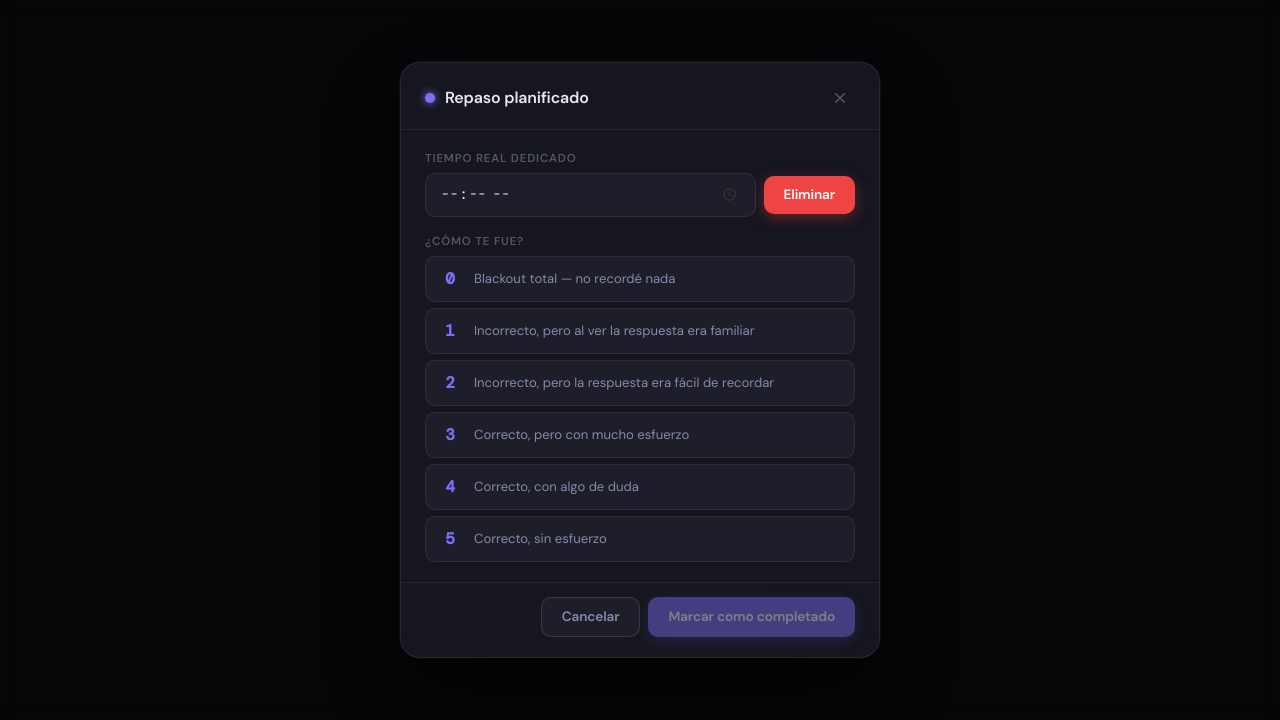
Test: EditReviewPlanEventDialog - estado pending › el botón se habilita con tiempo y valoración
This screenshot has width=1280, height=720.
Type "01:00" into the time field named "Tiempo real dedicado". click: (590, 195)
box: [425,173,756,217]
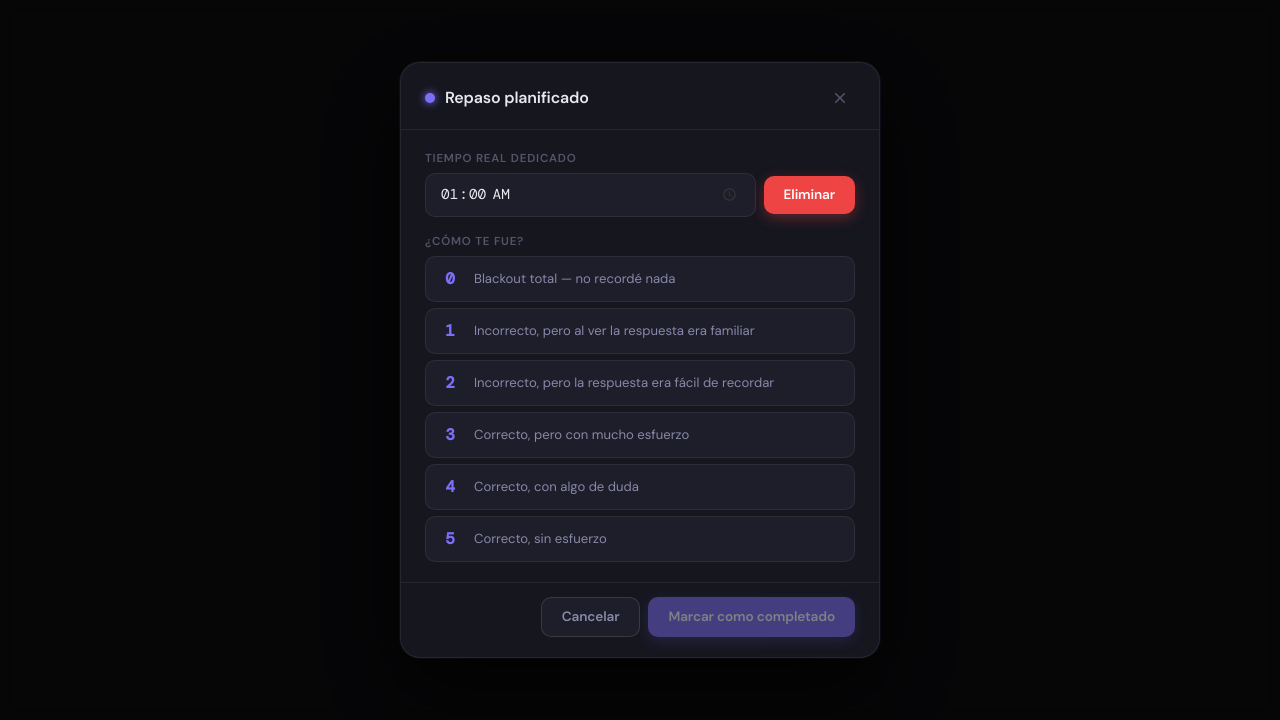
Click the radio button labelled "4 Correcto, con algo de duda". click: (640, 487)
box: [425,464,855,510]
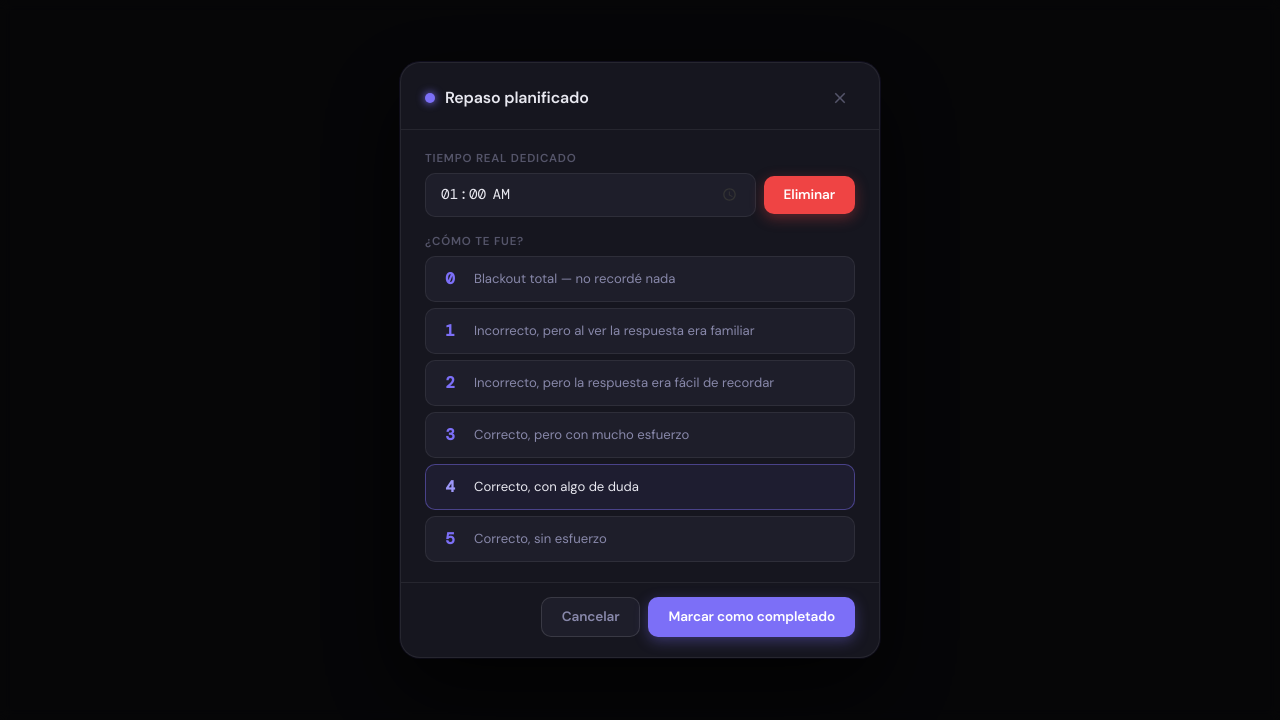
Expected: the button "Marcar como completado" is enabled, [648,597,855,637]
